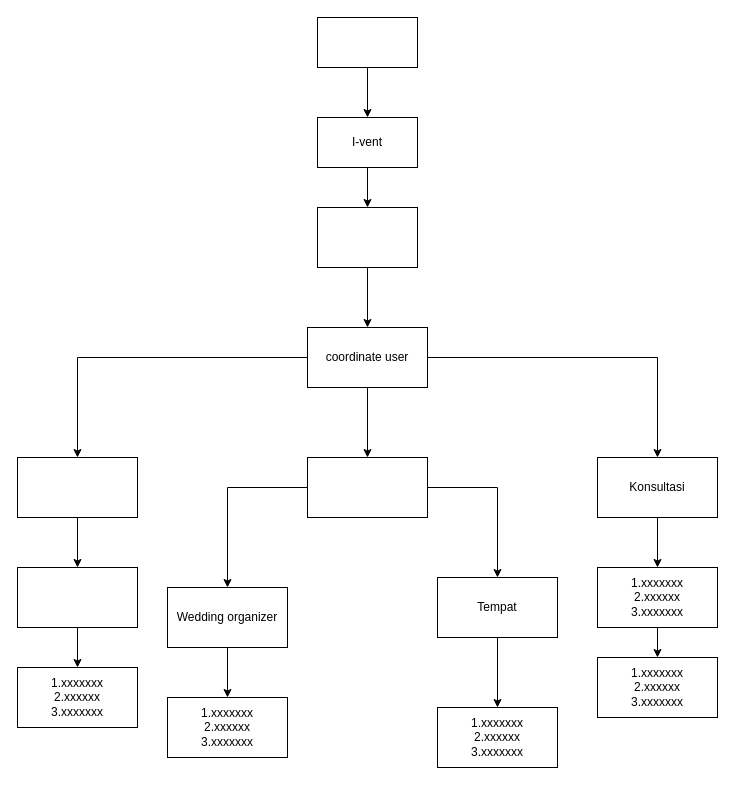
Image size: 735x785. Some labels were removed from this diagram. Here are the shapes that lost their labels. From the top down, the box of each, then its label:
(316, 16, 418, 68): user
(316, 206, 418, 268): sign in / sign up
(16, 456, 138, 518): Home
(306, 456, 428, 518): Kategori
(16, 566, 138, 628): 1. vendor 2. info diskon
